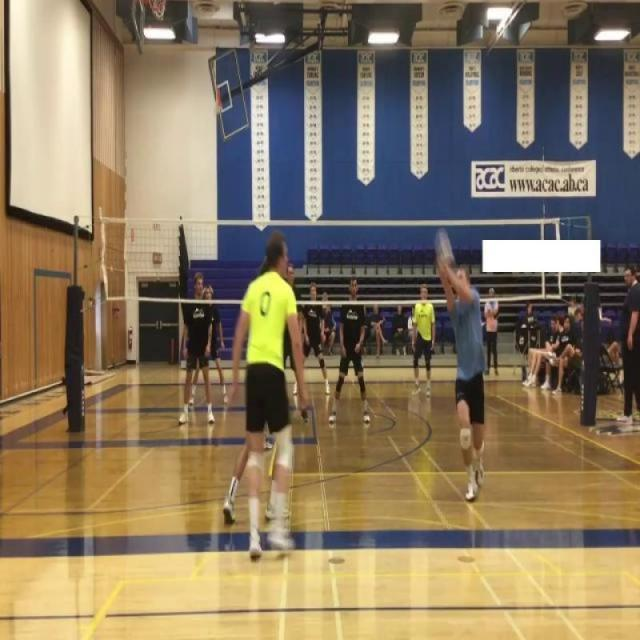volleyball: (433, 228, 456, 273)
